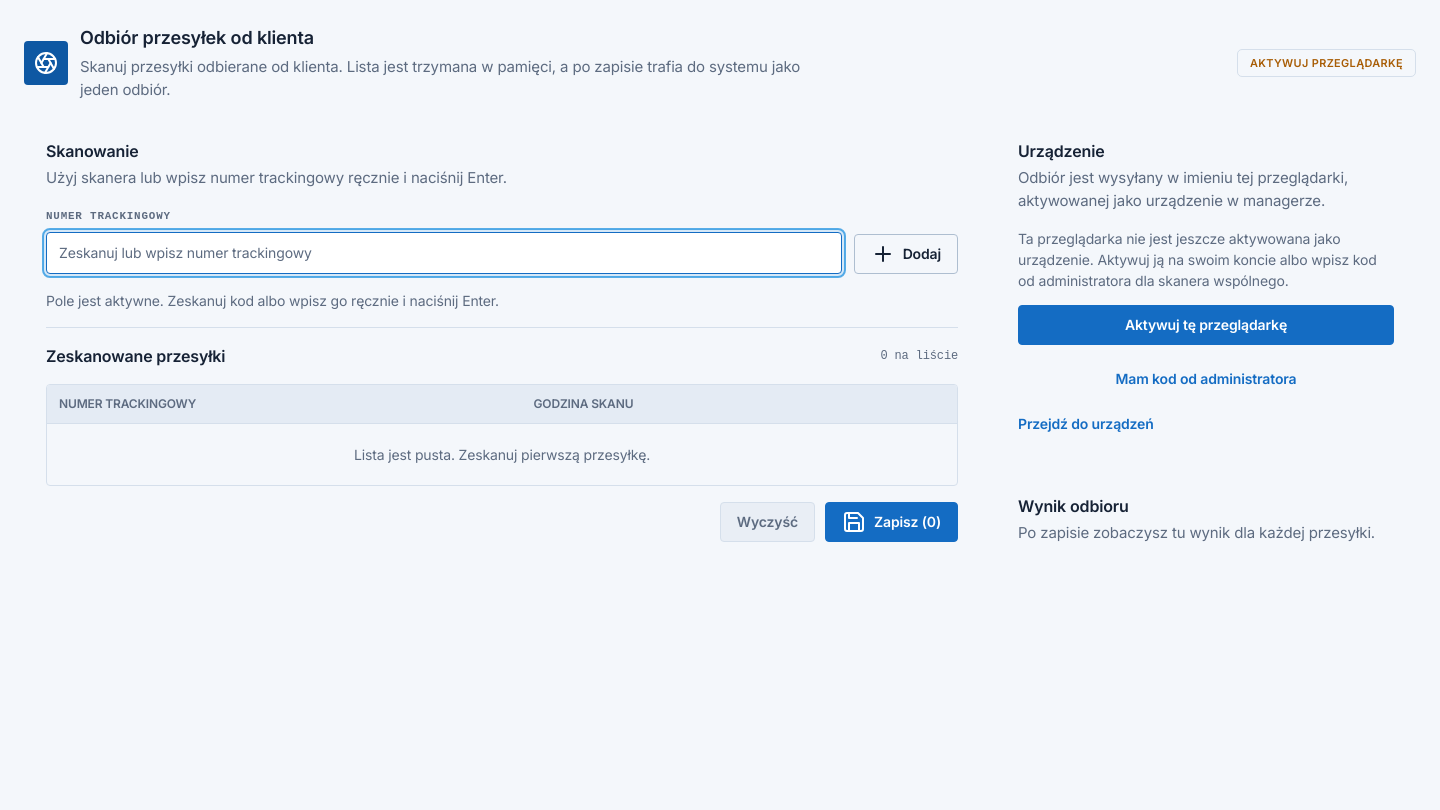
Test: ShipmentScanner › requires an activated browser before sending the collect request
Check: the button "Aktywuj tę przeglądarkę" is shown, box 1018,305 -> 1394,345
In the field labelled "Numer trackingowy": (444, 252) 46,232 -> 842,274, type "TRK-001"
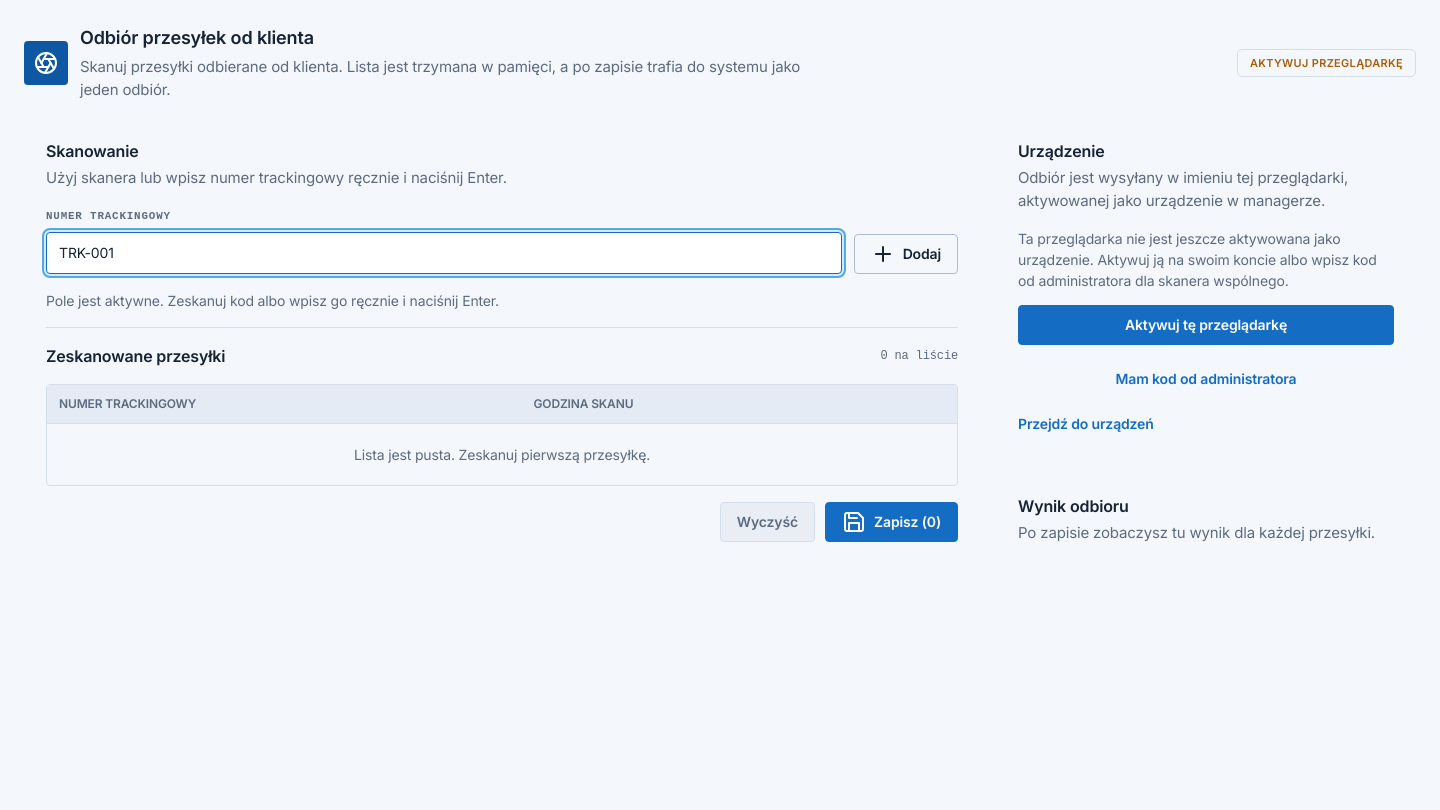
Click the button "Dodaj": (906, 254) 854,234 -> 958,274
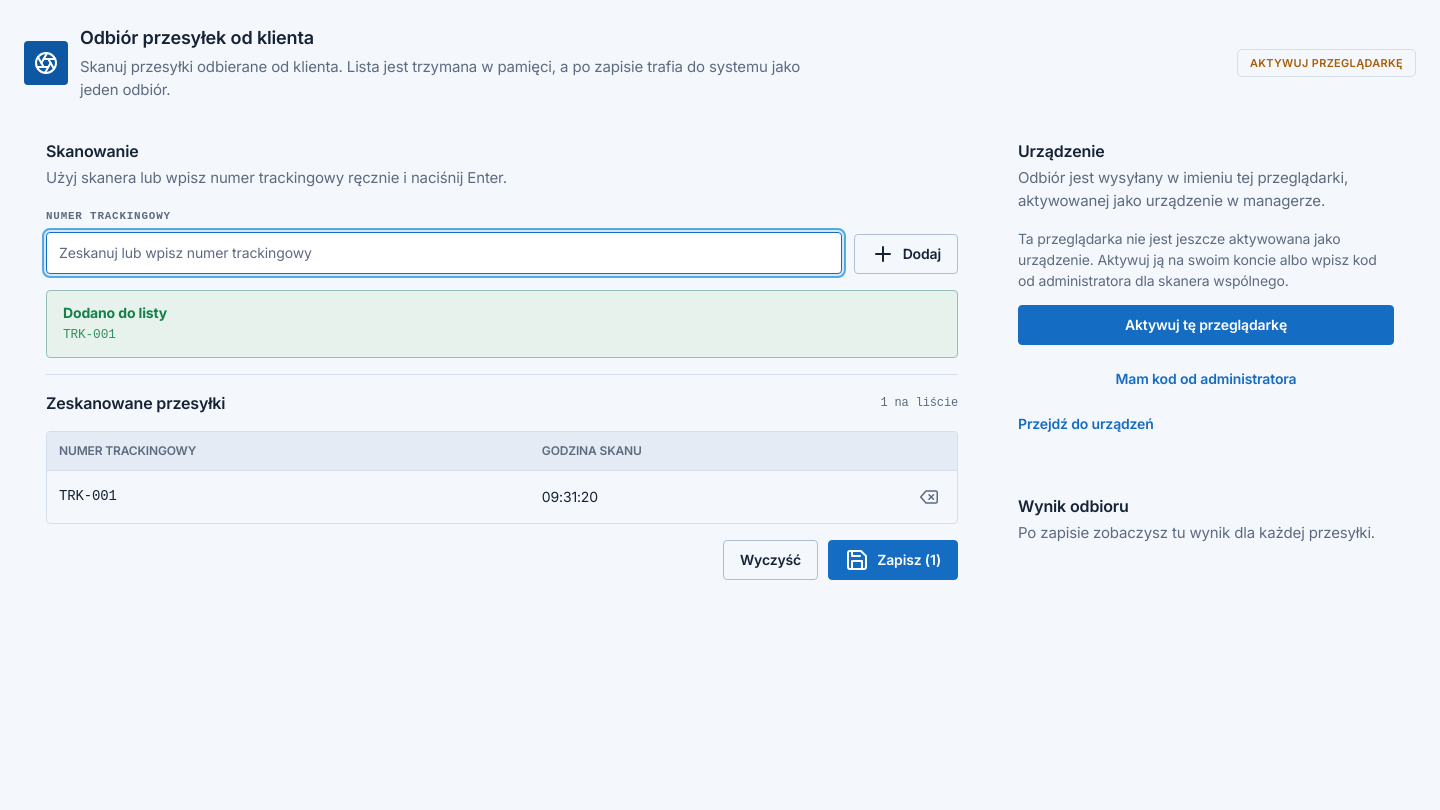
Click the button "Zapisz (1)": (893, 560) 828,540 -> 958,580
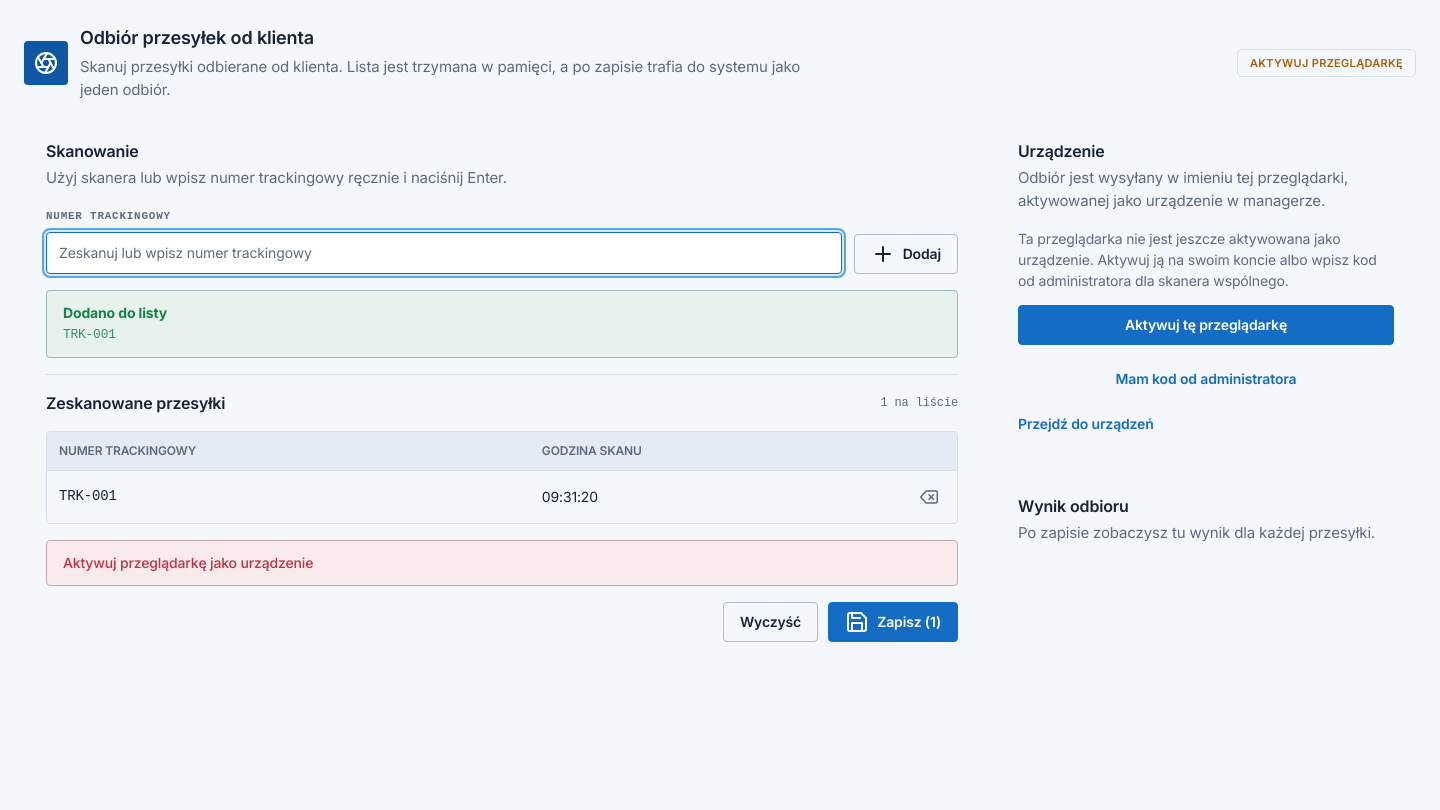
Check: the text "Aktywuj przeglądarkę jako urządzenie" is shown, box 63,554 -> 313,570
